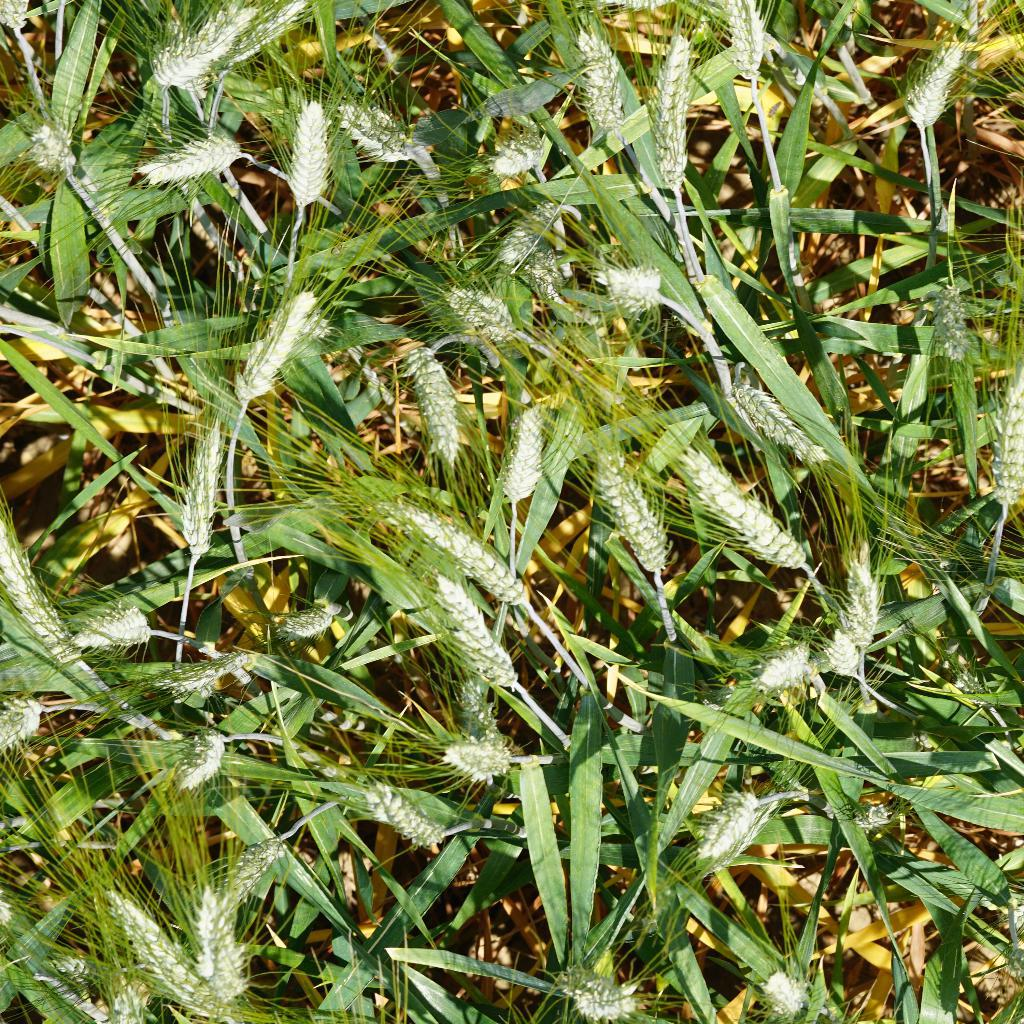0-0: (89, 871, 247, 1024), (661, 438, 810, 597), (388, 497, 535, 623), (404, 561, 531, 699), (582, 437, 677, 589), (0, 528, 89, 673), (233, 295, 330, 419), (723, 372, 836, 472), (127, 0, 243, 92), (363, 773, 462, 873), (647, 30, 703, 202), (399, 340, 473, 463), (902, 18, 973, 144), (337, 90, 438, 178), (129, 126, 258, 193), (174, 411, 232, 560), (572, 22, 639, 145), (174, 888, 250, 996), (223, 0, 331, 75), (545, 946, 645, 1024), (976, 347, 1024, 503), (19, 97, 97, 191), (209, 830, 305, 905), (286, 86, 335, 224), (690, 792, 774, 870), (443, 727, 538, 793), (707, 0, 776, 90), (493, 399, 546, 516), (589, 262, 673, 335), (153, 632, 258, 690), (484, 111, 556, 187), (838, 556, 892, 656), (490, 193, 560, 266), (0, 678, 60, 761), (437, 279, 512, 343), (750, 634, 828, 694), (73, 608, 167, 657), (931, 280, 982, 370), (163, 722, 234, 785), (753, 963, 821, 1024), (269, 597, 337, 654), (519, 245, 570, 318), (942, 655, 1002, 716), (36, 944, 105, 995), (813, 626, 867, 687), (837, 798, 888, 837)
